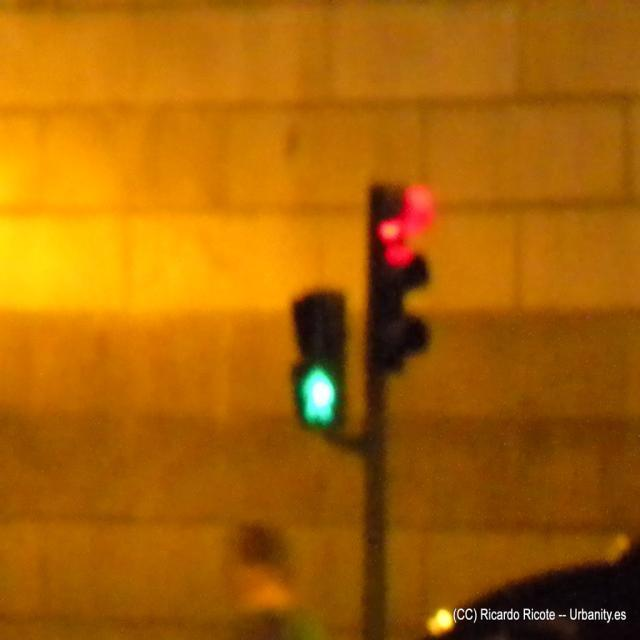traffic light: (366, 181, 437, 367), (290, 294, 346, 430)
